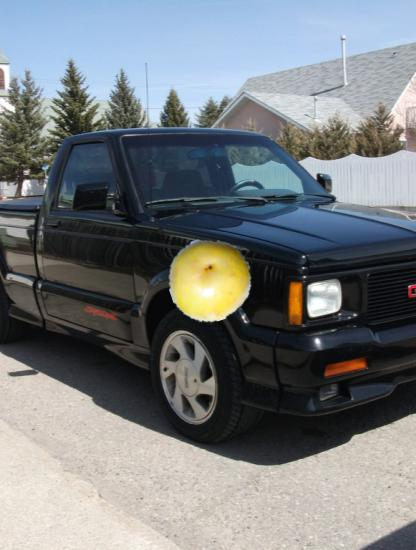Maracuja: (168, 238, 252, 322)
